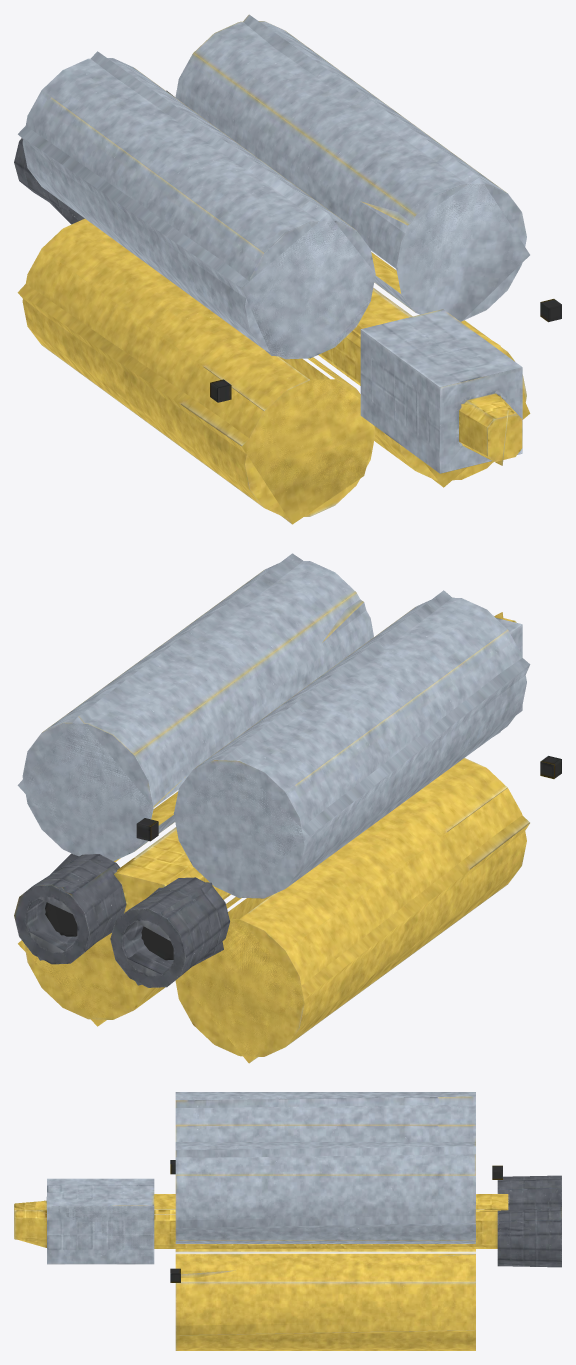
The model's file is sd_npc_tanker.glb.
3 views of the same model, one above another, from view 1: azimuth 30°, elevation 25°; view 2: azimuth 150°, elevation 25°; view 3: azimuth 270°, elevation 25° (orthographic). The views are drawn at different scales.
Visible parts, largest first — view 1: LOD0_body, LOD1_body; view 2: LOD0_body, LOD1_body; view 3: LOD0_body, LOD1_body.
Boxes of the visible parts, <box> form: LOD0_body: <box>14,21,561,517</box>; LOD1_body: <box>17,14,530,524</box>; LOD0_body: <box>14,561,561,1056</box>; LOD1_body: <box>17,553,530,1063</box>; LOD0_body: <box>14,1092,561,1350</box>; LOD1_body: <box>14,1096,561,1336</box>.
Size of the model in its own units: 0.4902 by 0.416 by 1.
Materials: 1 (1 with a texture image).
